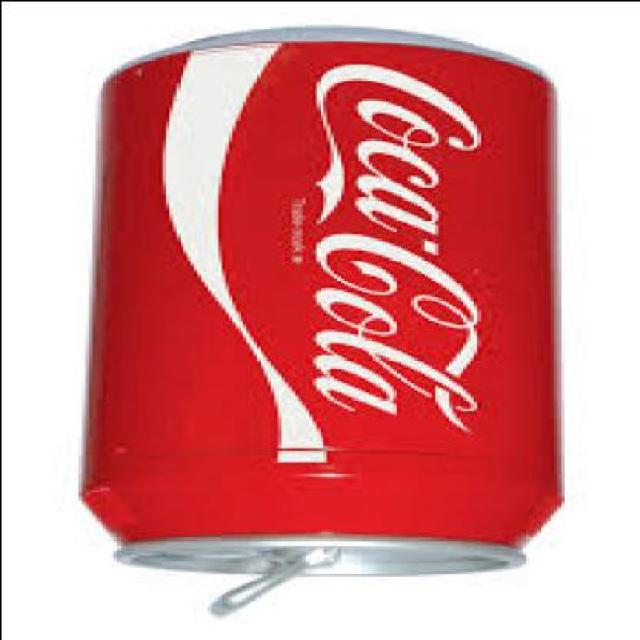METAL: (80, 32, 563, 617)
